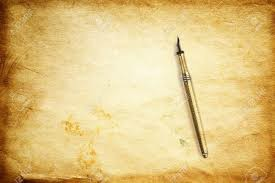pen: (177, 32, 209, 160)
